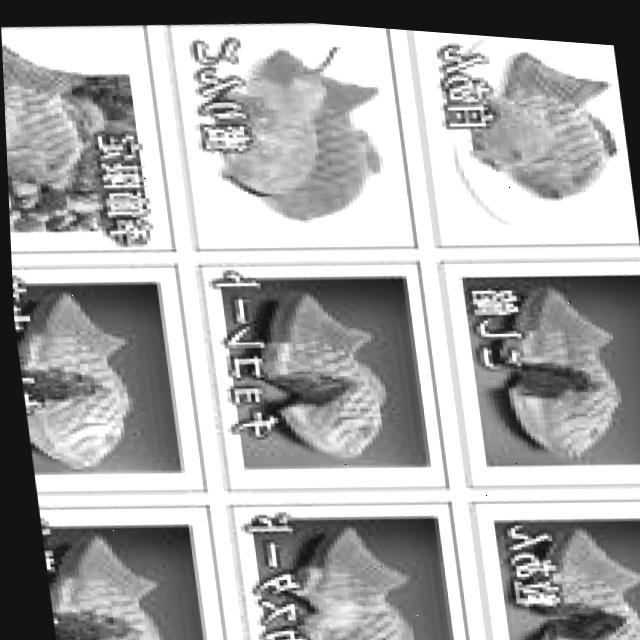熟制海鲜: (426, 25, 636, 233)
